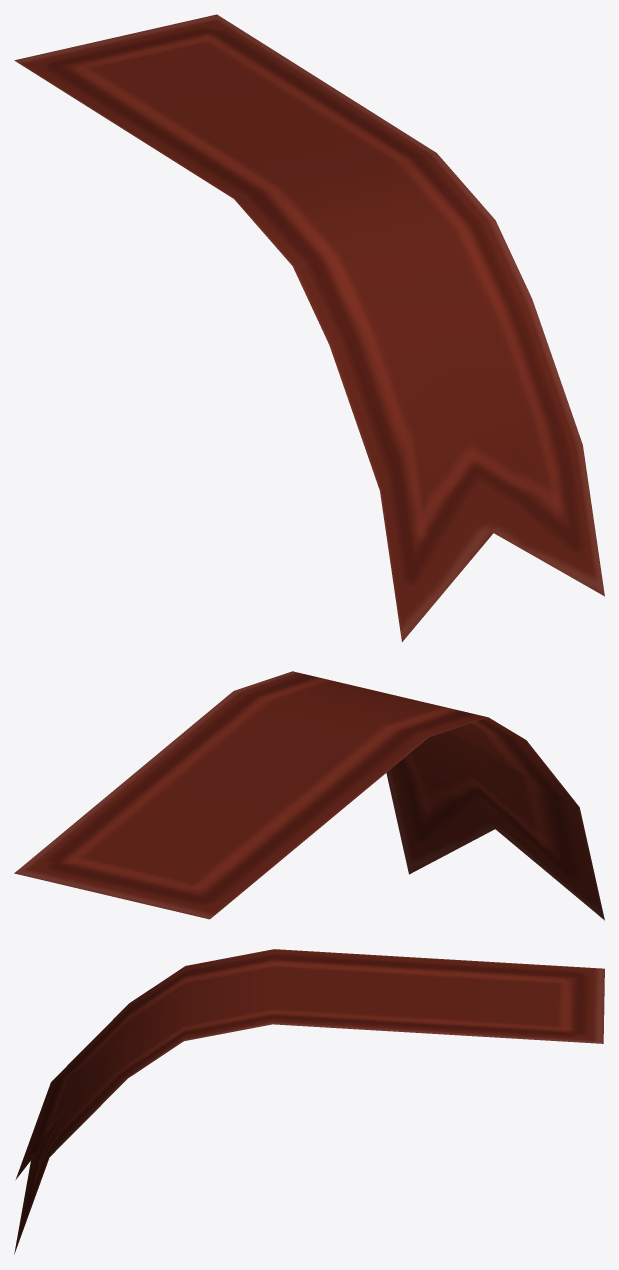
File: Book_tongue_scaled.fbx
3 renders of one model, top to bottom at view 1: azimuth 30°, elevation 25°; view 2: azimuth 150°, elevation 25°; view 3: azimuth 270°, elevation 25°, orthographic. The views are drawn at different scales.
Visible parts, largest first — view 1: Book_Tongue; view 2: Book_Tongue; view 3: Book_Tongue.
Part boxes in pixels (<box>): Book_Tongue: <box>14,14,604,641</box>; Book_Tongue: <box>14,671,604,920</box>; Book_Tongue: <box>14,949,604,1253</box>.
Size of the model in its own units: 2.92 by 4.2 by 9.54.
